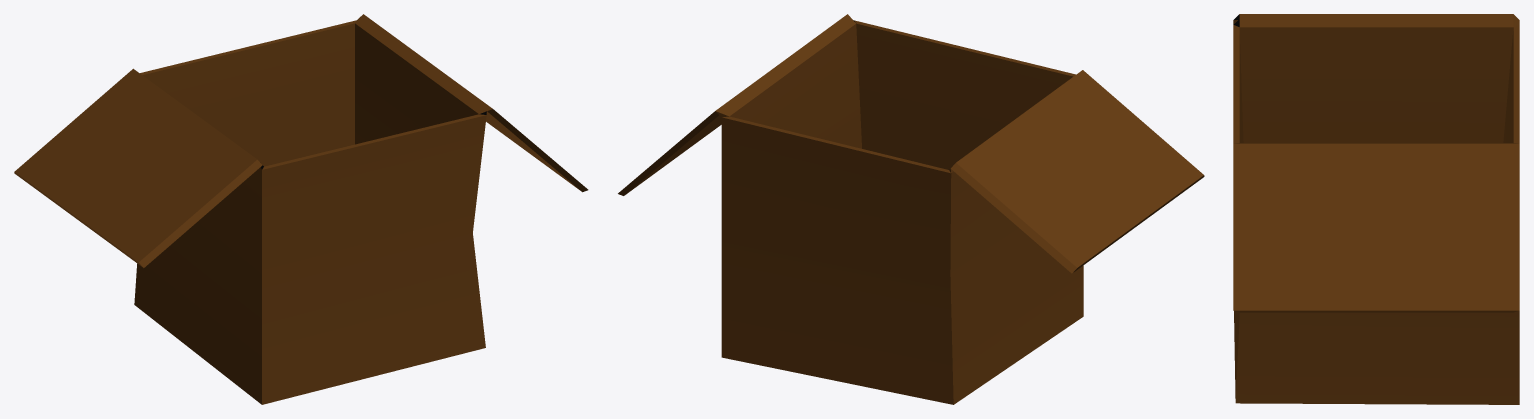
File: msh_randomBox2.fbx
3 renders of one model, left to right at view 1: azimuth 30°, elevation 25°; view 2: azimuth 150°, elevation 25°; view 3: azimuth 270°, elevation 25°, orthographic. The views are drawn at different scales.
Visible parts, largest first — view 1: polySurface2; view 2: polySurface2; view 3: polySurface2.
Part boxes in pixels (x1,y1,x2,y2): polySurface2: (14,14,588,404); polySurface2: (618,14,1204,404); polySurface2: (1233,14,1519,404).
Bounding box in the file's own units: 169 × 87.98 × 84.82.
